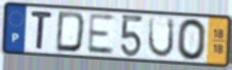5: (119, 13, 145, 58)
D: (54, 10, 88, 55)
E: (85, 12, 115, 56)
O: (176, 17, 208, 62)
T: (29, 9, 54, 52)
U: (146, 15, 176, 59)
